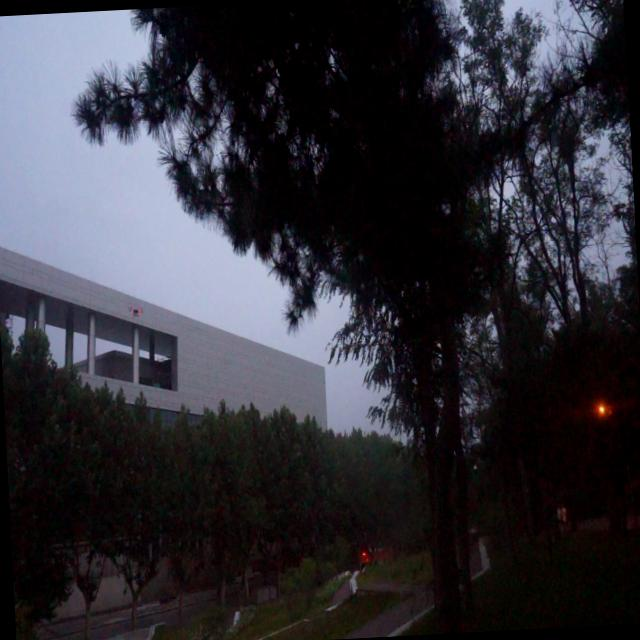drone: (126, 302, 150, 324)
